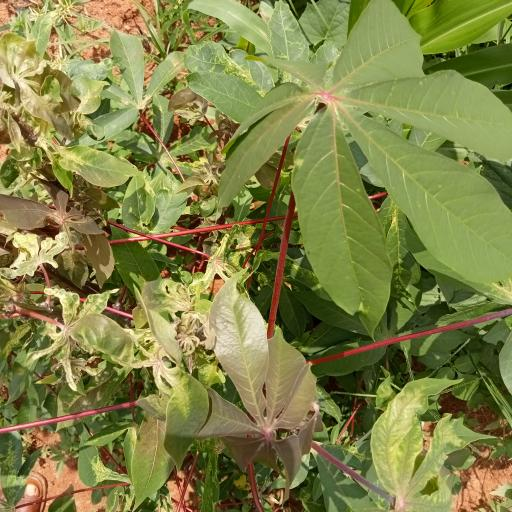Cassava_Healthy: (221, 2, 512, 304)
